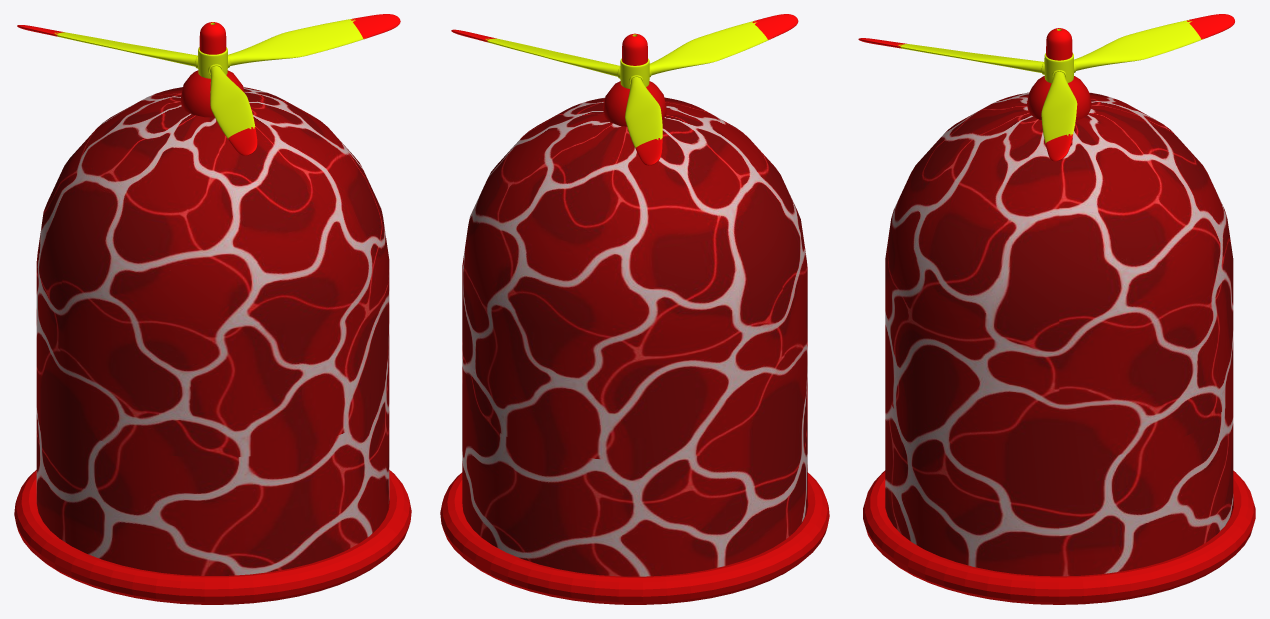
The model's file is u nuoc.fbx.
3 renders of one model, left to right at view 1: azimuth 30°, elevation 25°; view 2: azimuth 150°, elevation 25°; view 3: azimuth 270°, elevation 25°, orthographic. The views are drawn at different scales.
Parts seen in each view (by area): view 1: Capsule, Tube_1, Null, Sphere; view 2: Capsule, Tube_1, Null, Sphere; view 3: Capsule, Tube_1, Null, Sphere.
Boxes of the visible parts, box(x1,y1,x2,y2) form: Capsule: box(36, 87, 389, 575); Tube_1: box(14, 470, 411, 604); Null: box(17, 14, 400, 155); Sphere: box(180, 70, 244, 117); Capsule: box(462, 97, 807, 576); Tube_1: box(440, 472, 829, 604); Null: box(451, 14, 798, 165); Sphere: box(603, 81, 666, 126); Capsule: box(885, 92, 1233, 576); Tube_1: box(863, 470, 1255, 604); Null: box(858, 14, 1234, 161); Sphere: box(1027, 76, 1091, 120).
Size of the model in its own units: 57.16 by 76.41 by 55.36.
Materials: 4 (1 with a texture image).
